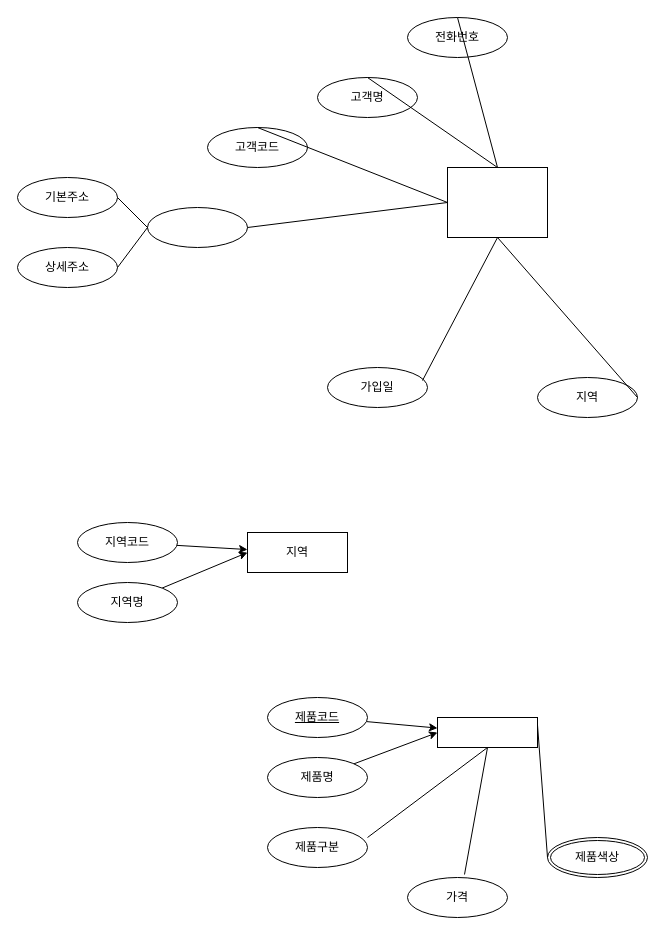
Some shapes in this 665 by 935 pixel diagram are drawn without their labels. Here are the shapes that lost their labels. From the top down, the centre of each, then its label:
At pixel 497 202: "고객".
At pixel 197 227: "주소".
At pixel 487 732: "제품".
